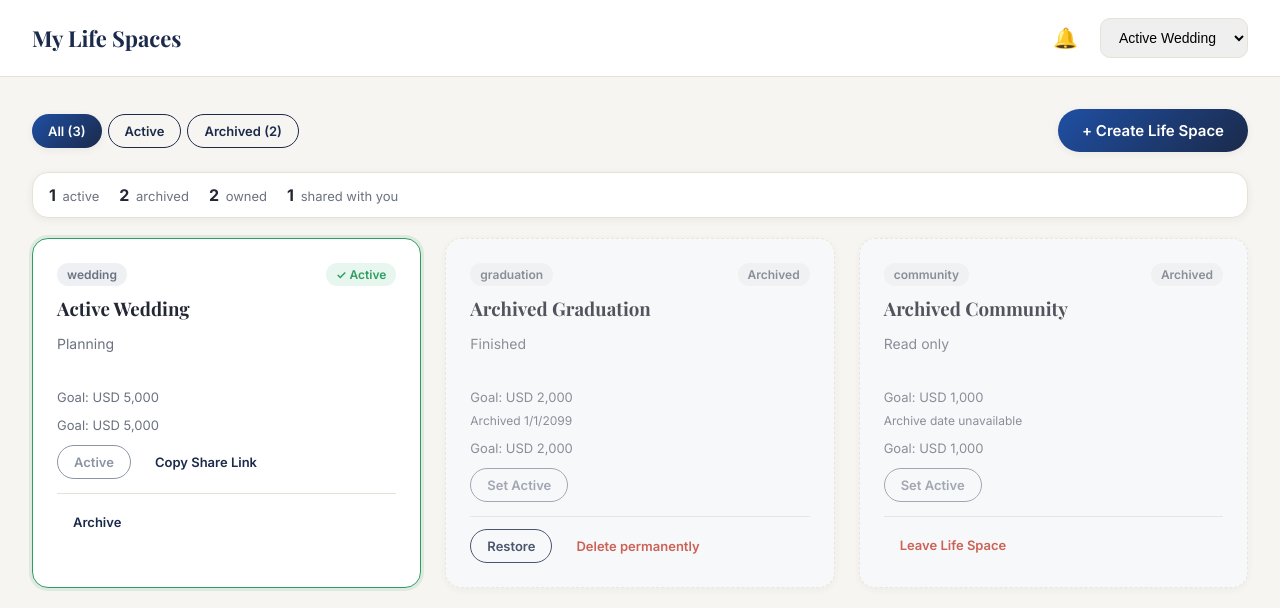
Test: Life Space lifecycle listing › filters to active spaces
Expected: the heading "Archived Graduation" is shown, [470,296,651,321]
Click the 1st button "Active" at (144, 130), box [108,114,181,148]
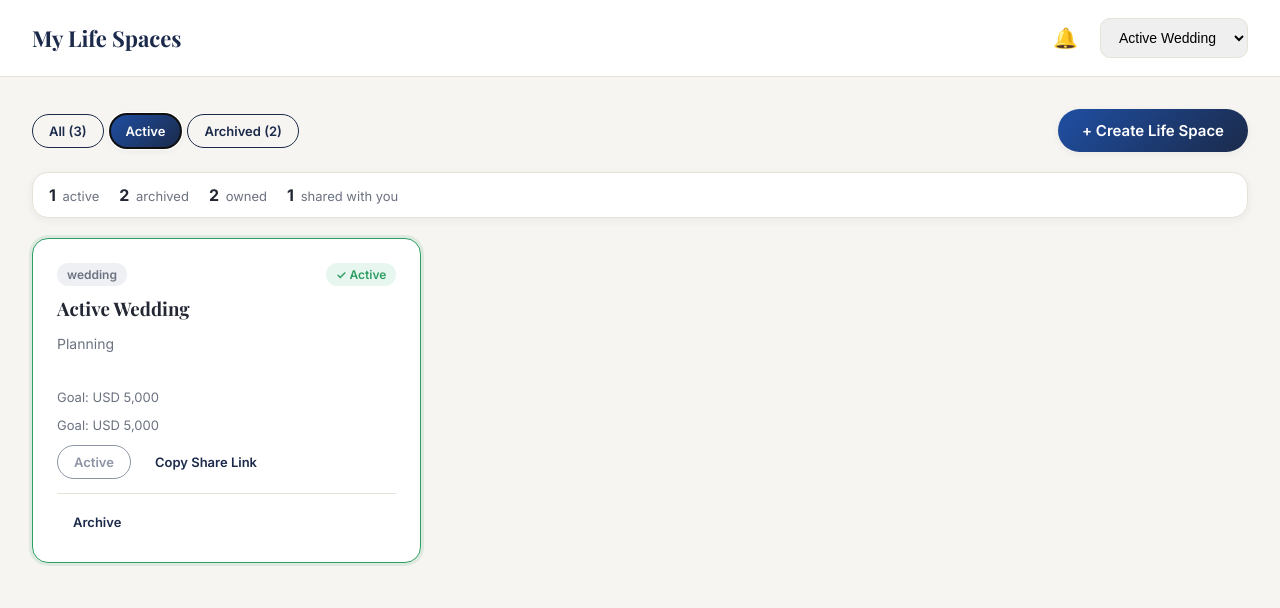
Expected: the heading "Active Wedding" is shown, [57,296,190,321]
Expected: the heading "Archived Graduation" is gone
